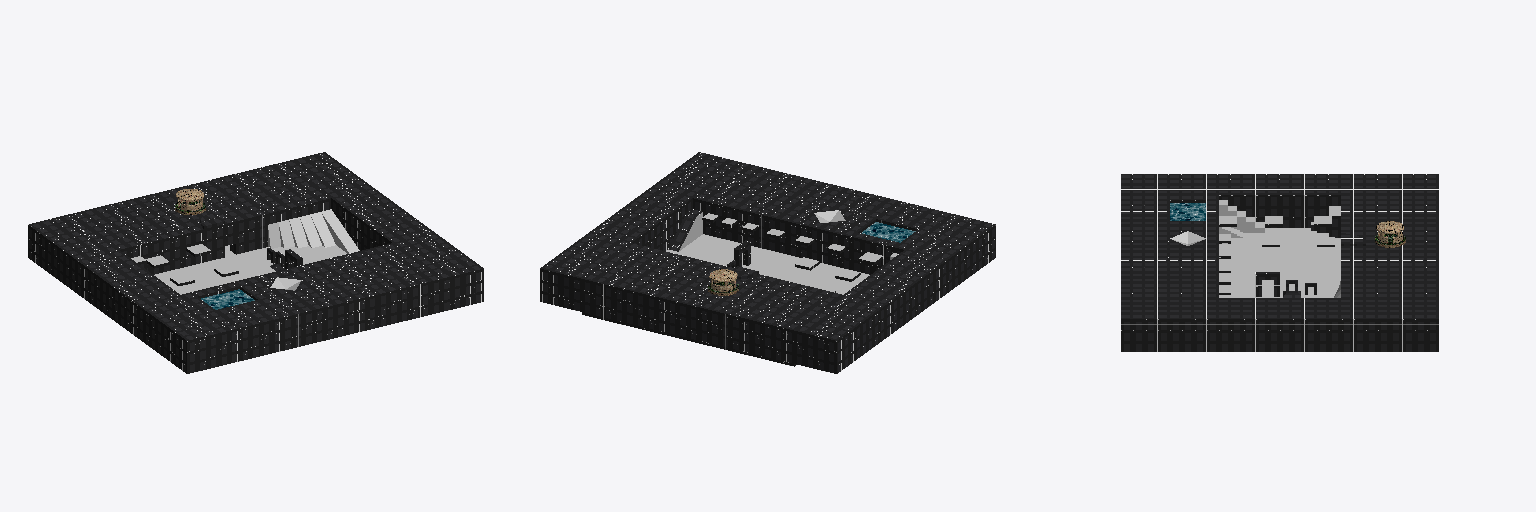
3 views of the same model, side by side, from view 1: azimuth 30°, elevation 25°; view 2: azimuth 150°, elevation 25°; view 3: azimuth 270°, elevation 25° (orthographic).
Parts seen in each view (by area): view 1: entity0_brush24, entity0_brush43, entity0_brush31, entity0_brush23, entity0_brush0, entity0_brush47, entity0_brush25, entity0_brush32, entity0_brush33, entity0_brush8, entity11_brush0; view 2: entity0_brush24, entity0_brush31, entity0_brush23, entity0_brush25, entity0_brush43, entity0_brush0, entity0_brush4, entity0_brush32, entity0_brush47, entity0_brush12, entity11_brush0; view 3: entity0_brush23, entity0_brush24, entity0_brush31, entity0_brush0, entity0_brush43, entity0_brush47, entity0_brush25, entity11_brush0.
Boxes of the visible parts, box(x1,y1,x2,y2) form: entity0_brush24: box(28, 214, 229, 373); entity0_brush43: box(206, 261, 441, 363); entity0_brush31: box(71, 162, 330, 257); entity0_brush23: box(283, 152, 483, 311); entity0_brush0: box(154, 245, 346, 294); entity0_brush47: box(293, 248, 416, 286); entity0_brush25: box(182, 243, 398, 298); entity0_brush32: box(141, 235, 224, 274); entity0_brush33: box(230, 225, 267, 254); entity0_brush8: box(321, 209, 359, 253); entity11_brush0: box(201, 289, 254, 309); entity0_brush24: box(794, 214, 995, 373); entity0_brush31: box(582, 243, 841, 341); entity0_brush23: box(540, 152, 740, 311); entity0_brush25: box(693, 194, 910, 274); entity0_brush43: box(718, 162, 952, 231); entity0_brush0: box(582, 234, 869, 366); entity0_brush4: box(582, 290, 687, 337); entity0_brush32: box(688, 316, 793, 363); entity0_brush47: box(699, 180, 822, 218); entity0_brush12: box(668, 209, 702, 251); entity11_brush0: box(862, 222, 915, 242); entity0_brush23: box(1121, 298, 1438, 351); entity0_brush24: box(1121, 174, 1438, 227); entity0_brush31: box(1341, 195, 1438, 297); entity0_brush0: box(1219, 228, 1340, 297); entity0_brush43: box(1121, 195, 1169, 297); entity0_brush47: box(1170, 246, 1205, 297); entity0_brush25: box(1206, 195, 1218, 297); entity11_brush0: box(1170, 203, 1205, 220).
Size of the model in its own units: 3584 by 612 by 3328.
9 materials, 6 textured.